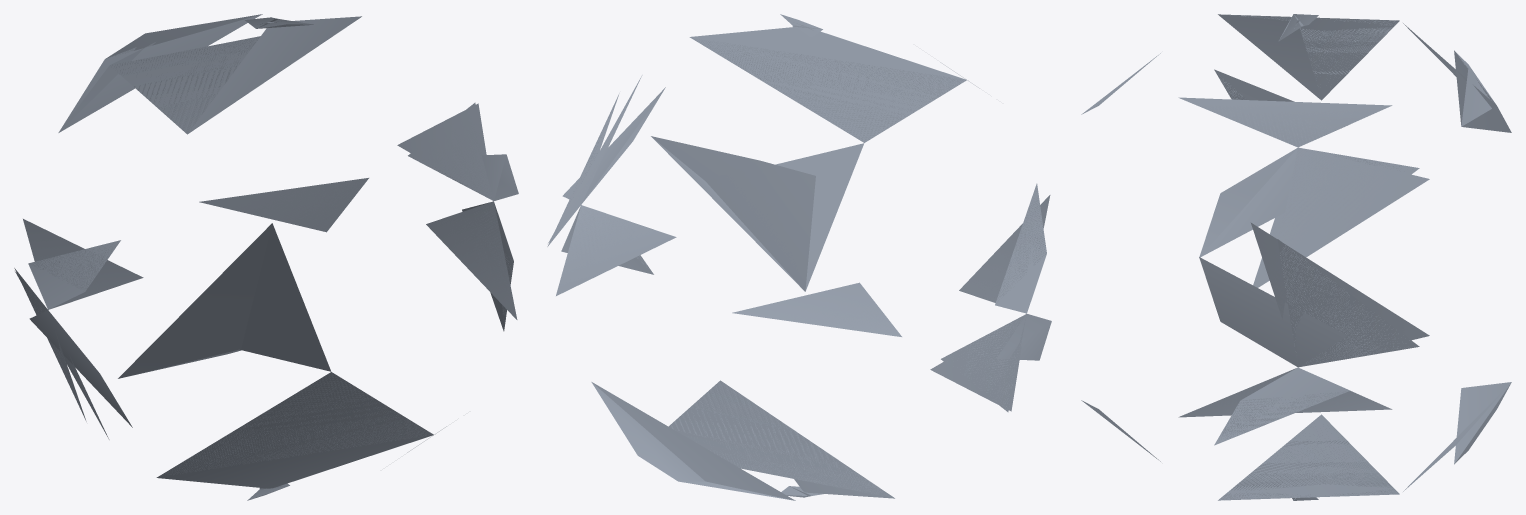
The picture shows the model from 3 angles, left to right: view 1: azimuth 30°, elevation 25°; view 2: azimuth 150°, elevation 25°; view 3: azimuth 270°, elevation 25°; orthographic projection.
Parts seen in each view (by area): view 1: 3-3-structural; view 2: 3-3-structural; view 3: 3-3-structural.
Boxes of the visible parts, x1,y1,x2,y2 form: 3-3-structural: [14, 14, 518, 500]; 3-3-structural: [547, 14, 1051, 500]; 3-3-structural: [1081, 14, 1511, 500].
Size of the model in its own units: 2 by 2 by 1.66.
